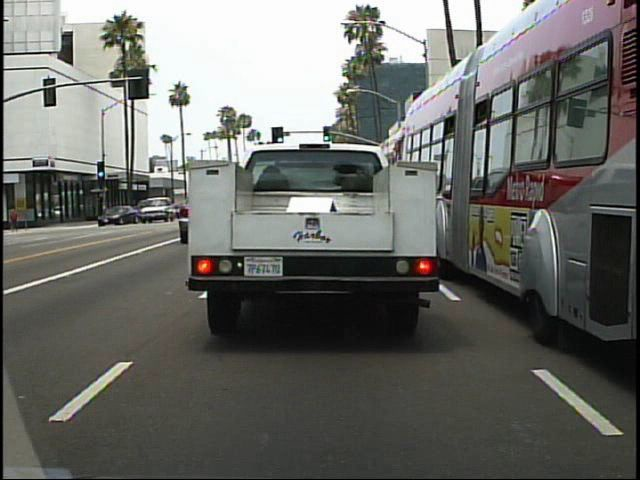person: (9, 206, 22, 234)
